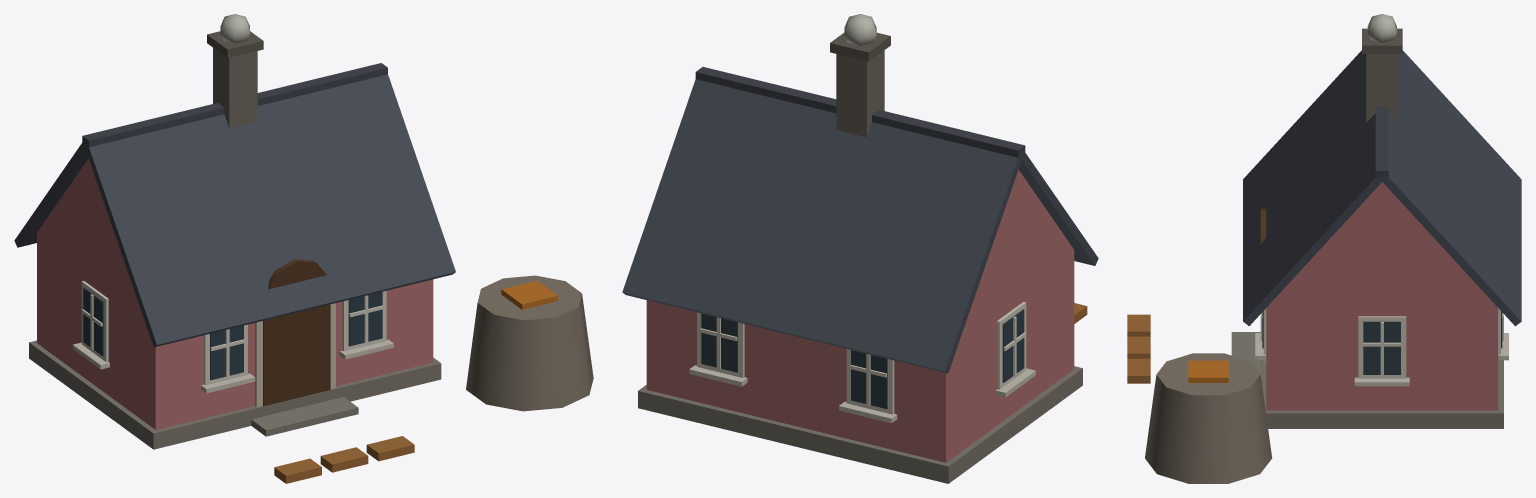
The model's file is procedural_bronze_foundry@4.glb.
The picture shows the model from 3 angles, left to right: view 1: azimuth 30°, elevation 25°; view 2: azimuth 150°, elevation 25°; view 3: azimuth 270°, elevation 25°; orthographic projection. The views are drawn at different scales.
Visible parts, largest first — view 1: part_0, part_4; view 2: part_0, part_4; view 3: part_0, part_4.
Part boxes in pixels (x1,y1,x2,y2): part_0: (14,31,593,483); part_4: (220,14,249,43); part_0: (622,32,1098,483); part_4: (844,14,876,45); part_0: (1127,28,1521,483); part_4: (1367,14,1396,42).
Size of the model in its own units: 7.96 by 6.59 by 6.8.
